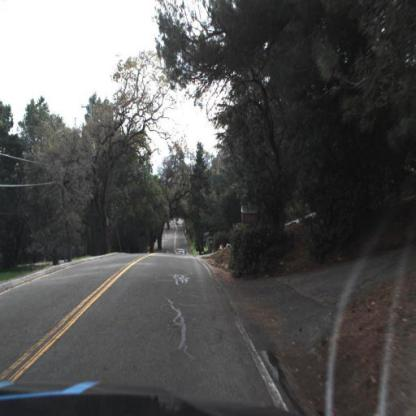car: (173, 246, 188, 262)
